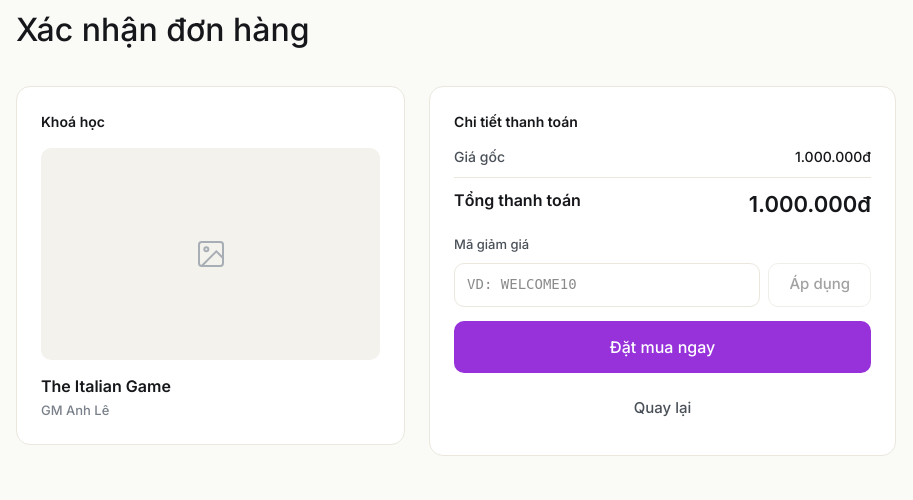
Test: ConfirmPurchasePage › shows the Vietnamese error for voucher_expired
Type "BADCODE" into the field with test id "voucher-input" at x=607, y=284, box [454, 262, 760, 306]
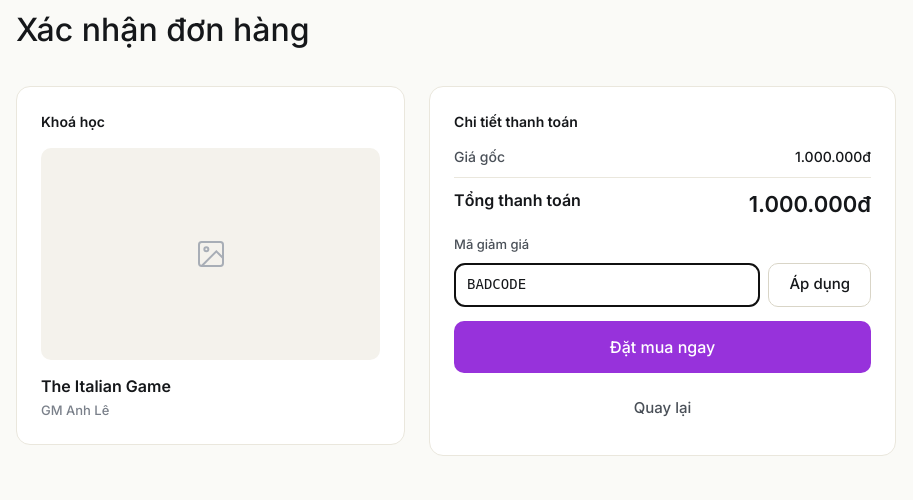
Click the button with test id "voucher-apply-btn" at x=820, y=284, box [768, 262, 871, 306]
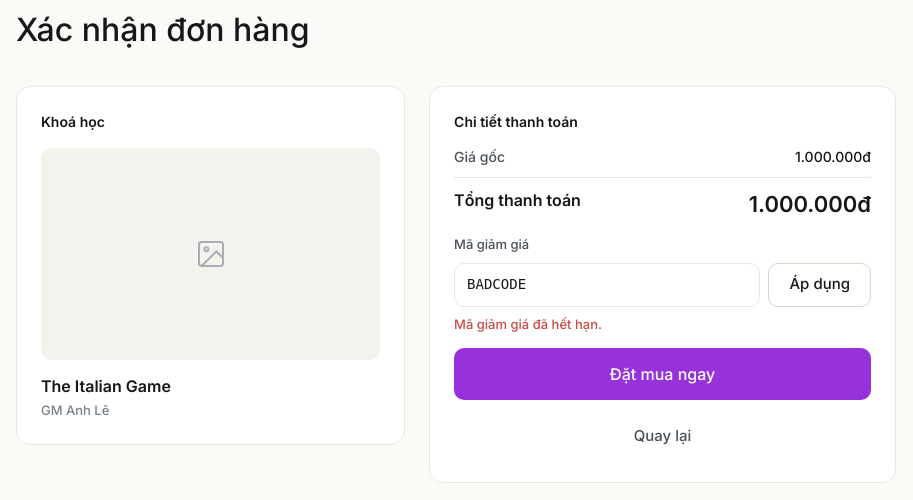
Expected: the text with test id "voucher-error" shows "hết hạn", [454, 316, 602, 332]
